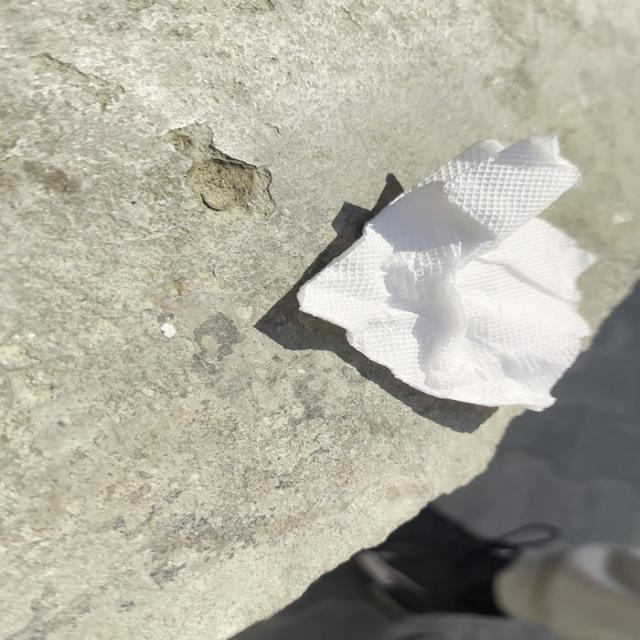tissue: (305, 127, 604, 422)
